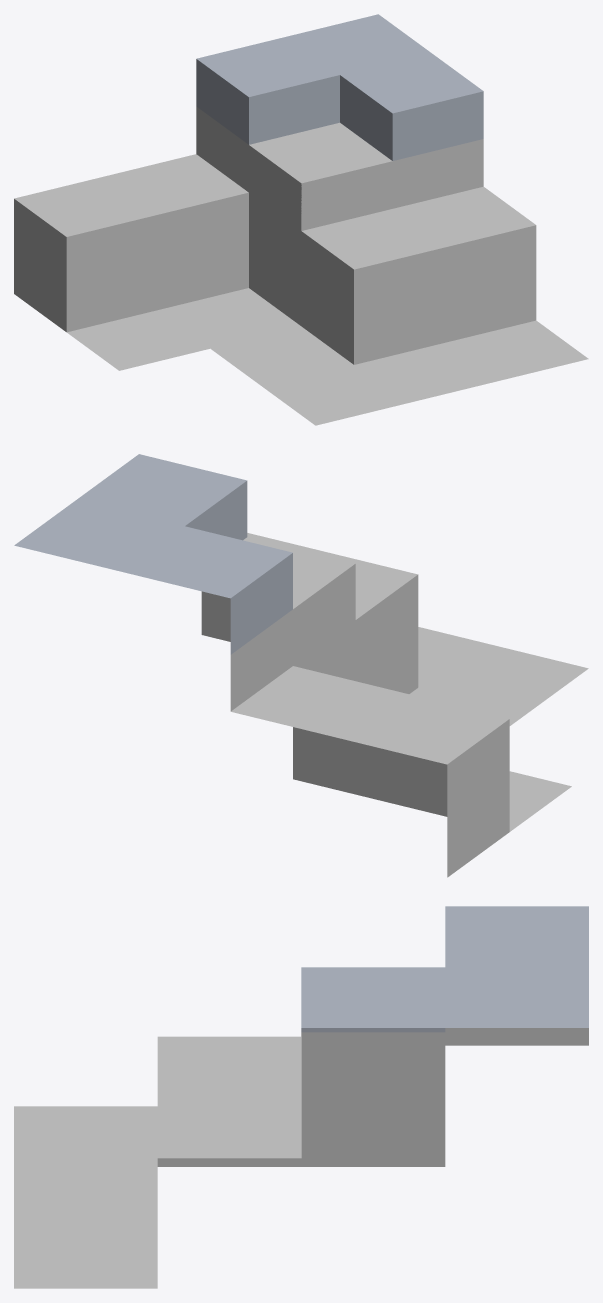
The model's file is cell_165.obj.
The picture shows the model from 3 angles, top to bottom: view 1: azimuth 30°, elevation 25°; view 2: azimuth 150°, elevation 25°; view 3: azimuth 270°, elevation 25°; orthographic projection. The views are drawn at different scales.
Size of the model in its own units: 1 by 0.5 by 1.
